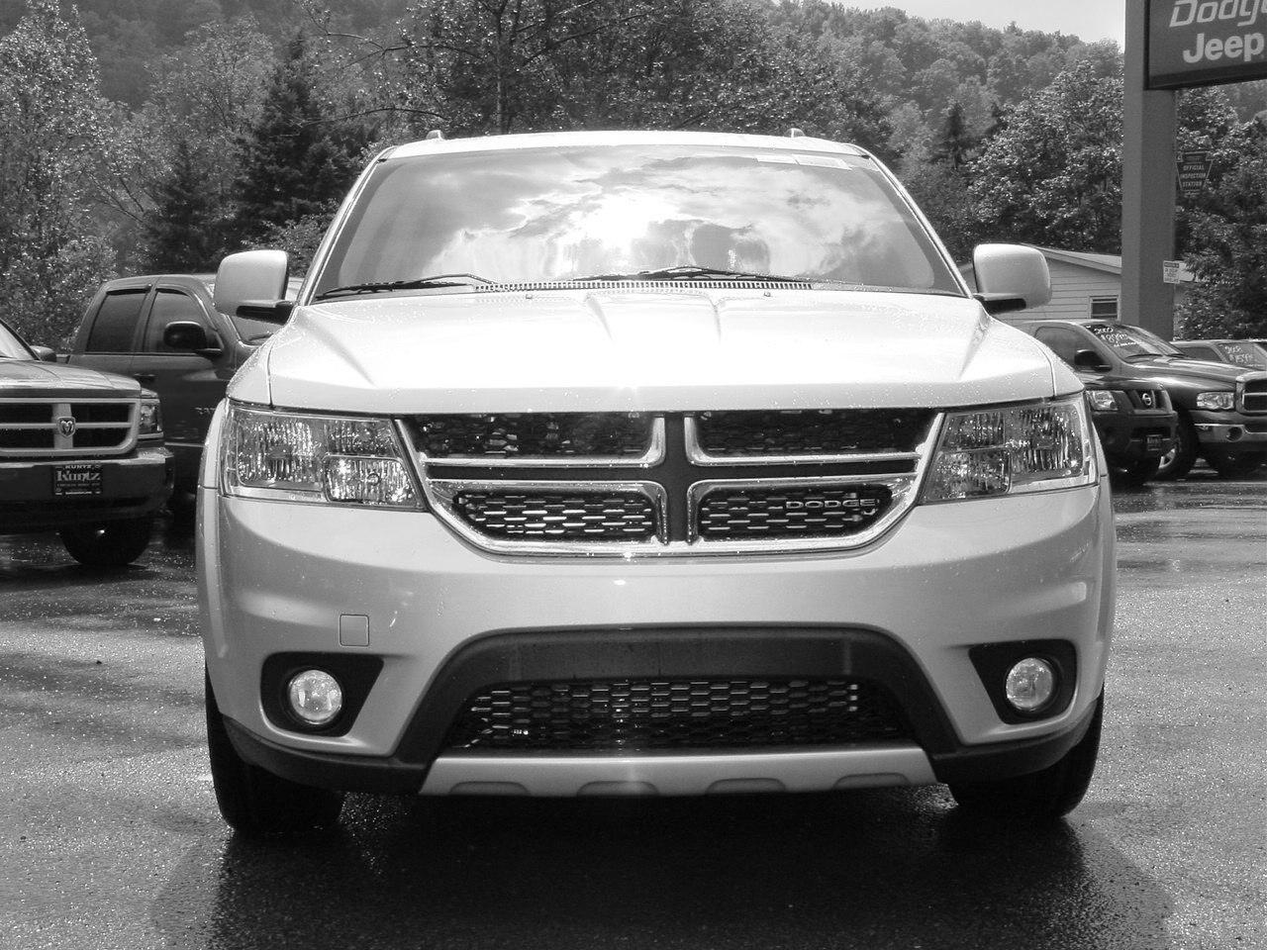car: (196, 132, 1113, 837)
